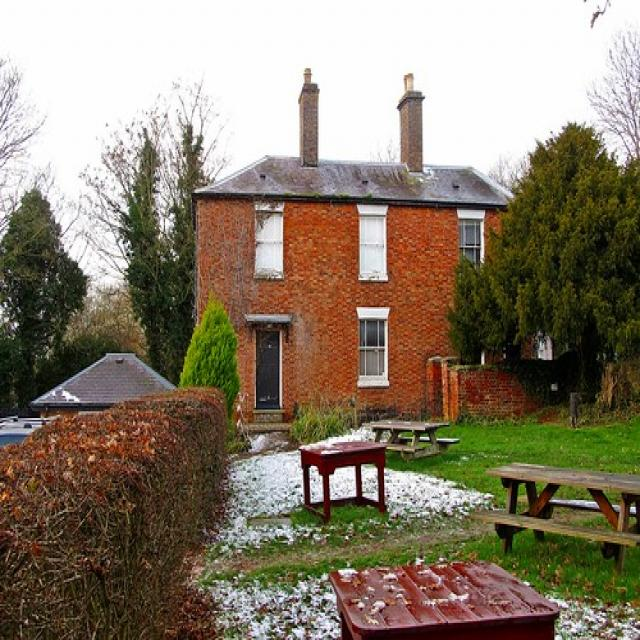Normal_building: (186, 60, 546, 428)
